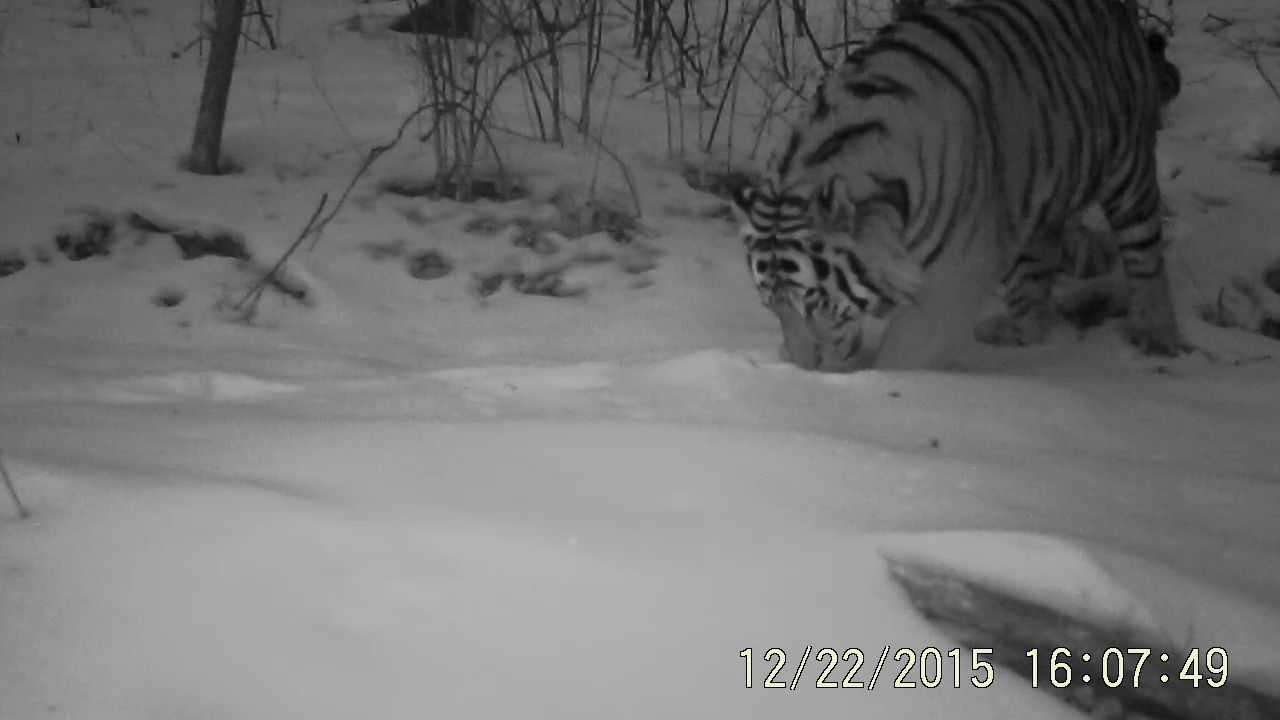Tiger: (702, 2, 1280, 480)
